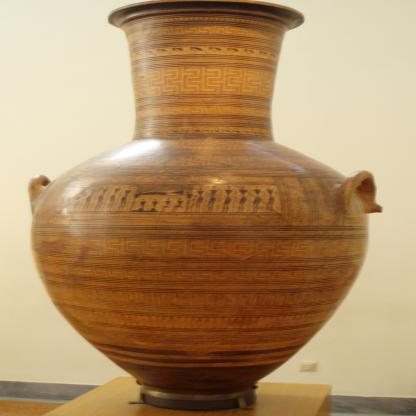vase: (25, 0, 380, 412)
